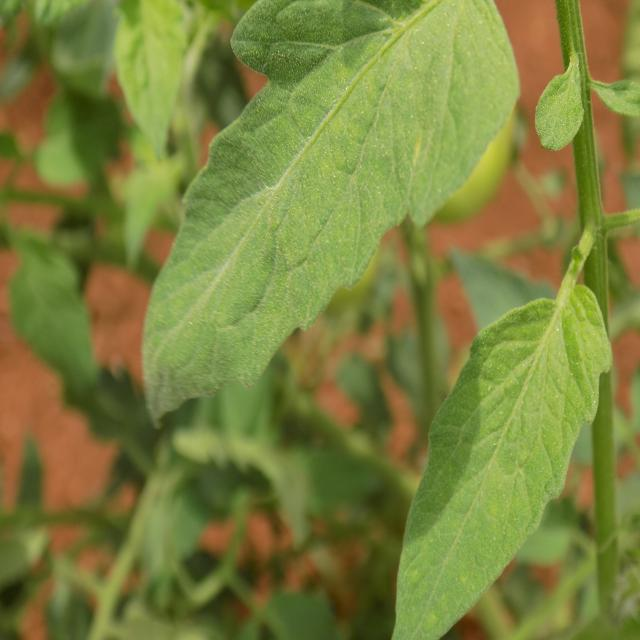tomato_healthy: (142, 0, 520, 426), (388, 283, 610, 640)
